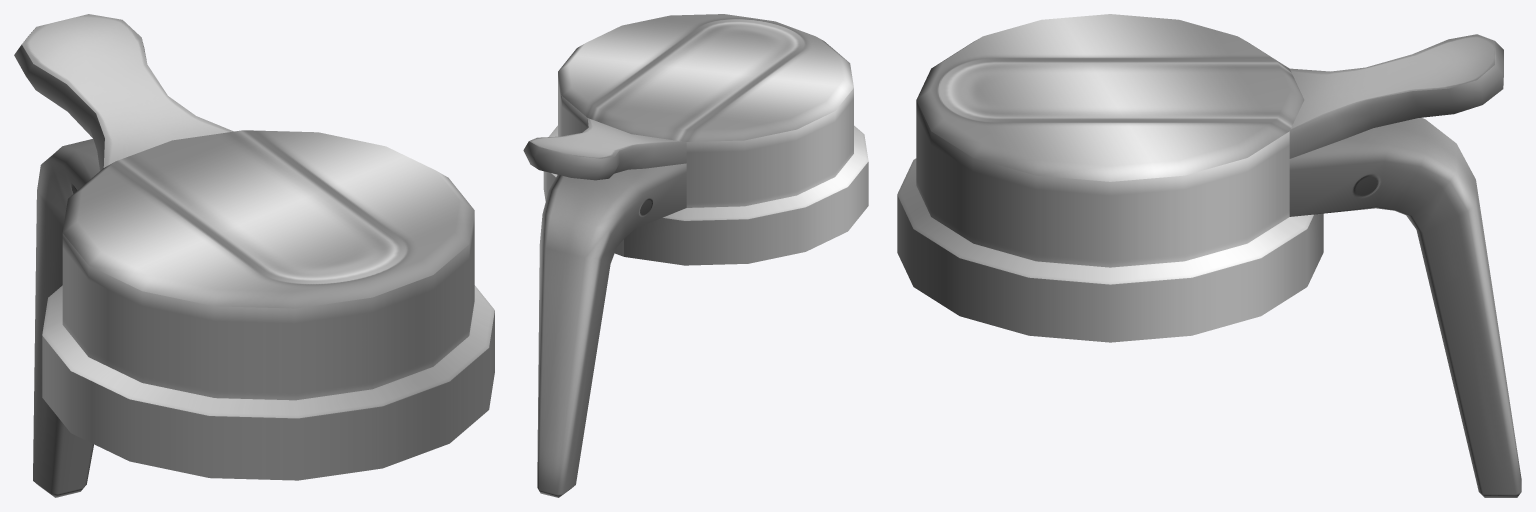
The model's file is Syrup_Container_02_Top.fbx.
3 renders of one model, left to right at view 1: azimuth 30°, elevation 25°; view 2: azimuth 150°, elevation 25°; view 3: azimuth 270°, elevation 25°, orthographic. The views are drawn at different scales.
Visible parts, largest first — view 1: Syrup_Container_02_Top; view 2: Syrup_Container_02_Top; view 3: Syrup_Container_02_Top.
Boxes of the visible parts, x1,y1,x2,y2 form: Syrup_Container_02_Top: (14, 14, 494, 497); Syrup_Container_02_Top: (523, 14, 868, 497); Syrup_Container_02_Top: (897, 14, 1521, 497).
Bounding box in the file's own units: 29.58 × 33.63 × 43.33.
